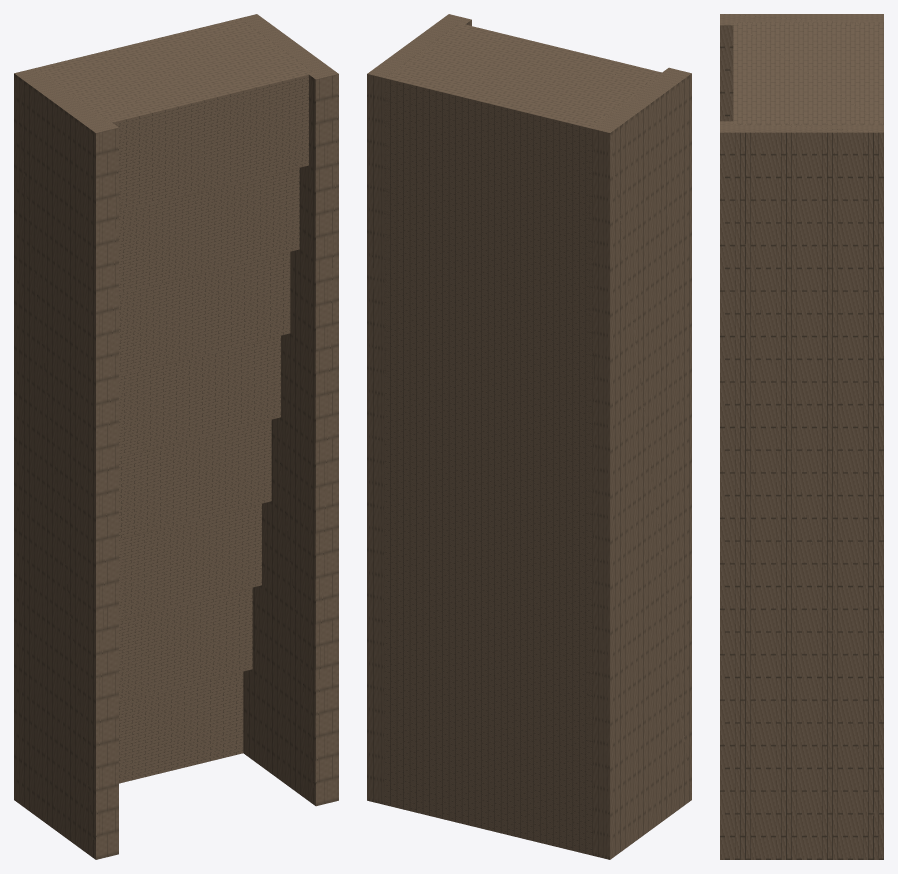
Rendered from SM_Grand_Stairs.obj.
3 views of the same model, side by side, from view 1: azimuth 30°, elevation 25°; view 2: azimuth 150°, elevation 25°; view 3: azimuth 270°, elevation 25° (orthographic).
Parts seen in each view (by area): view 1: SM_Grand_Stairs; view 2: SM_Grand_Stairs; view 3: SM_Grand_Stairs.
Boxes of the visible parts, box(x1,y1,x2,y2) form: SM_Grand_Stairs: box(14, 14, 338, 859); SM_Grand_Stairs: box(367, 14, 691, 859); SM_Grand_Stairs: box(720, 14, 883, 859).
Bounding box in the file's own units: 840 × 2400 × 490.
Materials: 1 (1 with a texture image).
